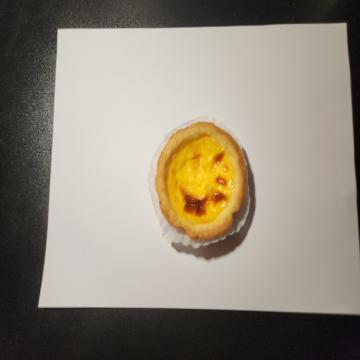EggTart: (156, 122, 248, 241)
